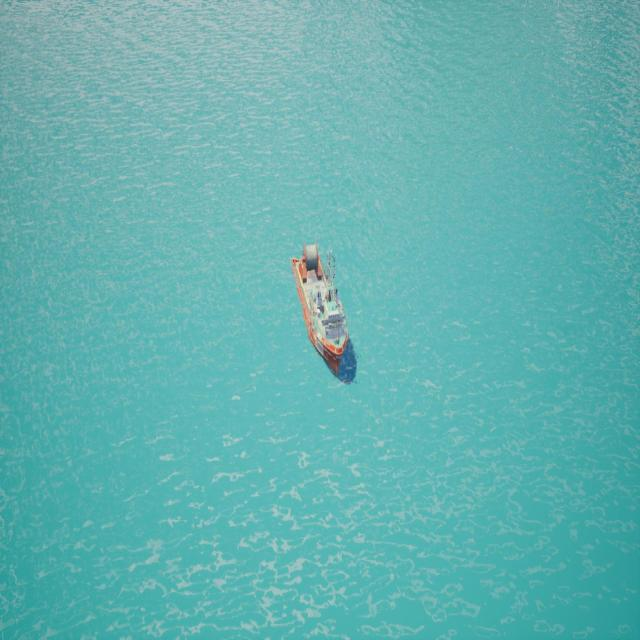tug boat: (275, 207, 368, 392)
